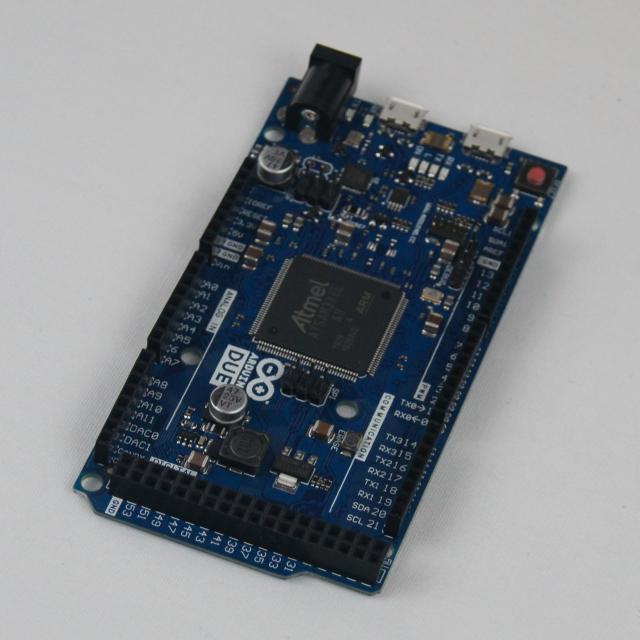Arduino-Due: (75, 46, 566, 593)
